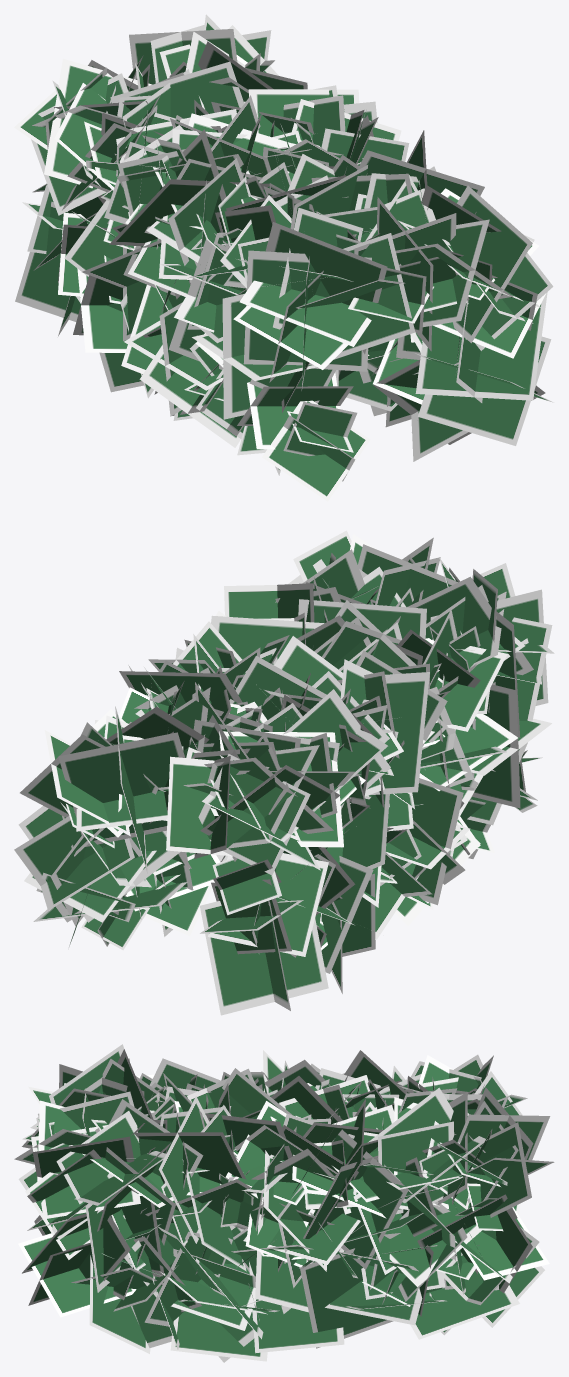
Rendered from bushes_test_04.fbx.
The picture shows the model from 3 angles, top to bottom: view 1: azimuth 30°, elevation 25°; view 2: azimuth 150°, elevation 25°; view 3: azimuth 270°, elevation 25°; orthographic projection. The views are drawn at different scales.
Parts seen in each view (by area): view 1: leaf.004; view 2: leaf.004; view 3: leaf.004.
Part boxes in pixels (left/top/right/bottom): leaf.004: left=14, top=14, right=553, bottom=501; leaf.004: left=14, top=530, right=554, bottom=1015; leaf.004: left=14, top=1044, right=554, bottom=1362.
Bounding box in the file's own units: 206 × 184 × 370.
